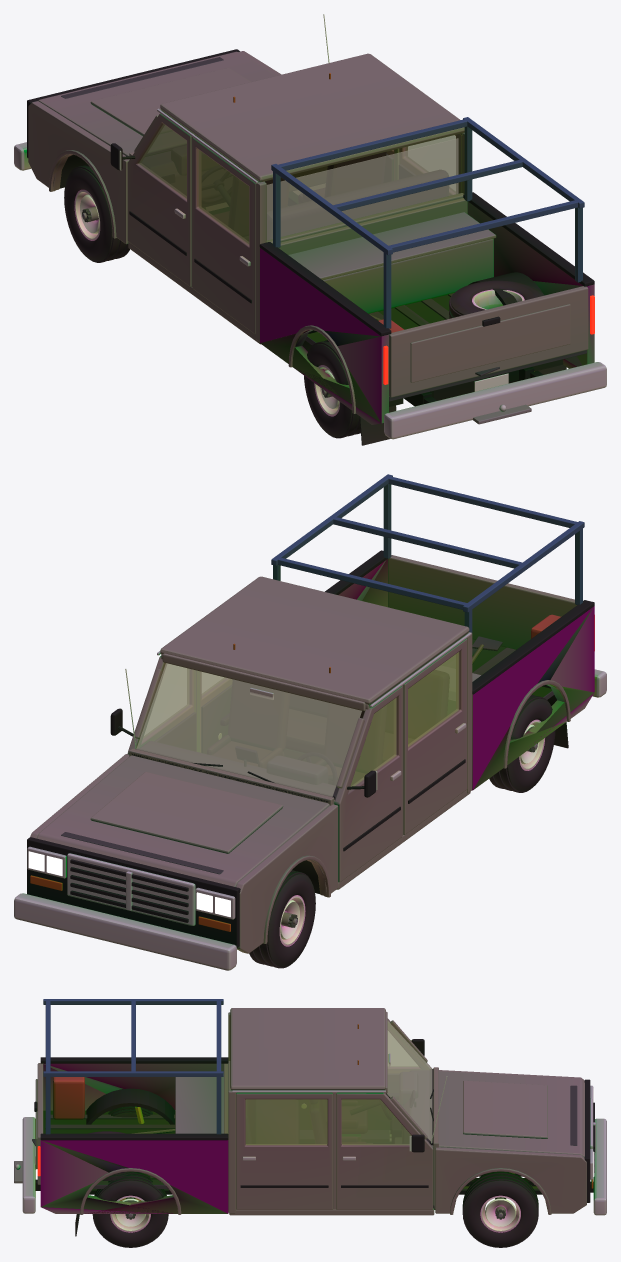
Rendered from pickup.glb.
3 renders of one model, top to bottom at view 1: azimuth 30°, elevation 25°; view 2: azimuth 150°, elevation 25°; view 3: azimuth 270°, elevation 25°, orthographic. The views are drawn at different scales.
Visible parts, largest first — view 1: pickup_body, pickup_door_rl, pickup_glass, pickup_door_fl, pickup_wheel_fl, pickup_wheel_rl, pickup_door_rr; view 2: pickup_body, pickup_glass, pickup_door_rl, pickup_door_fl, pickup_wheel_fl, pickup_door_fr, pickup_wheel_rl, pickup_door_rr, pickup_headlights; view 3: pickup_body, pickup_door_rr, pickup_door_fr, pickup_wheel_fr, pickup_wheel_rr, pickup_glass, pickup_door_fl, pickup_wheel_rl.
Boxes of the visible parts, bbox=[...] form: pickup_body: bbox=[14, 14, 606, 445]; pickup_door_rl: bbox=[192, 138, 255, 334]; pickup_glass: bbox=[148, 125, 458, 240]; pickup_door_fl: bbox=[127, 113, 191, 286]; pickup_wheel_fl: bbox=[64, 164, 129, 262]; pickup_wheel_rl: bbox=[304, 340, 360, 438]; pickup_door_rr: bbox=[399, 134, 460, 195]; pickup_body: bbox=[14, 474, 606, 970]; pickup_glass: bbox=[136, 655, 455, 796]; pickup_door_rl: bbox=[403, 638, 467, 834]; pickup_door_fl: bbox=[334, 686, 402, 882]; pickup_wheel_fl: bbox=[249, 870, 315, 968]; pickup_door_fr: bbox=[127, 656, 195, 754]; pickup_wheel_rl: bbox=[489, 694, 555, 792]; pickup_door_rr: bbox=[200, 671, 232, 753]; pickup_headlights: bbox=[28, 851, 230, 917]; pickup_body: bbox=[14, 999, 606, 1236]; pickup_door_rr: bbox=[236, 1092, 333, 1209]; pickup_door_fr: bbox=[336, 1092, 433, 1209]; pickup_wheel_fr: bbox=[462, 1171, 538, 1247]; pickup_wheel_rr: bbox=[92, 1172, 168, 1247]; pickup_glass: bbox=[387, 1021, 432, 1142]; pickup_door_fl: bbox=[342, 1018, 431, 1129]; pickup_wheel_rl: bbox=[108, 1106, 152, 1117].
Bounding box in the file's own units: 2.43 × 2.03 × 6.25.
